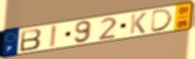2: (98, 16, 119, 42)
9: (74, 20, 93, 44)
B: (19, 28, 44, 53)
D: (150, 8, 175, 34)
I: (48, 23, 58, 49)
K: (129, 12, 148, 36)
